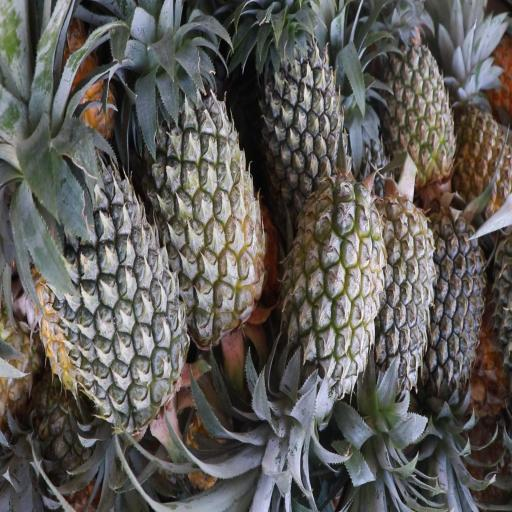------------------------------: (152, 93, 266, 334), (289, 174, 382, 404), (383, 28, 458, 187)
